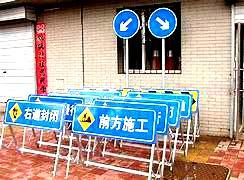sign: (73, 107, 154, 139), (5, 103, 62, 128)
